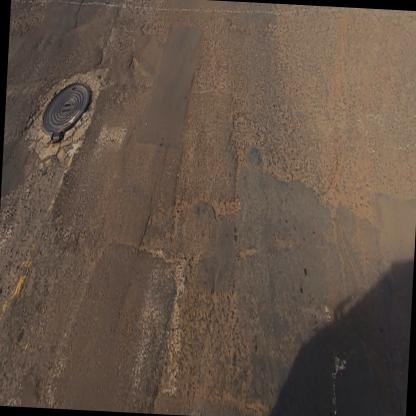manholes: (37, 64, 97, 152)
